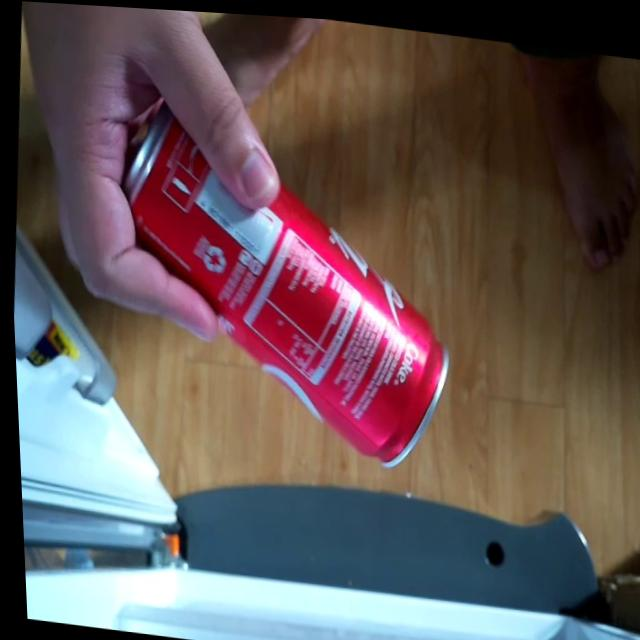coke: (99, 95, 470, 483)
